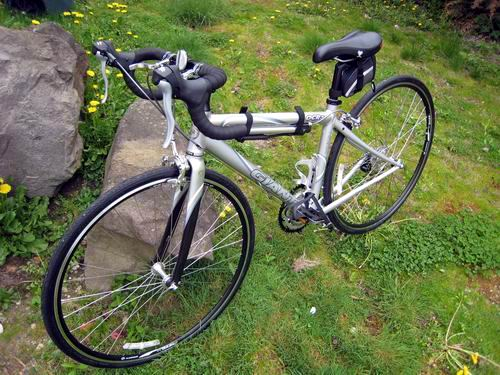bicycle: (33, 12, 442, 375)
